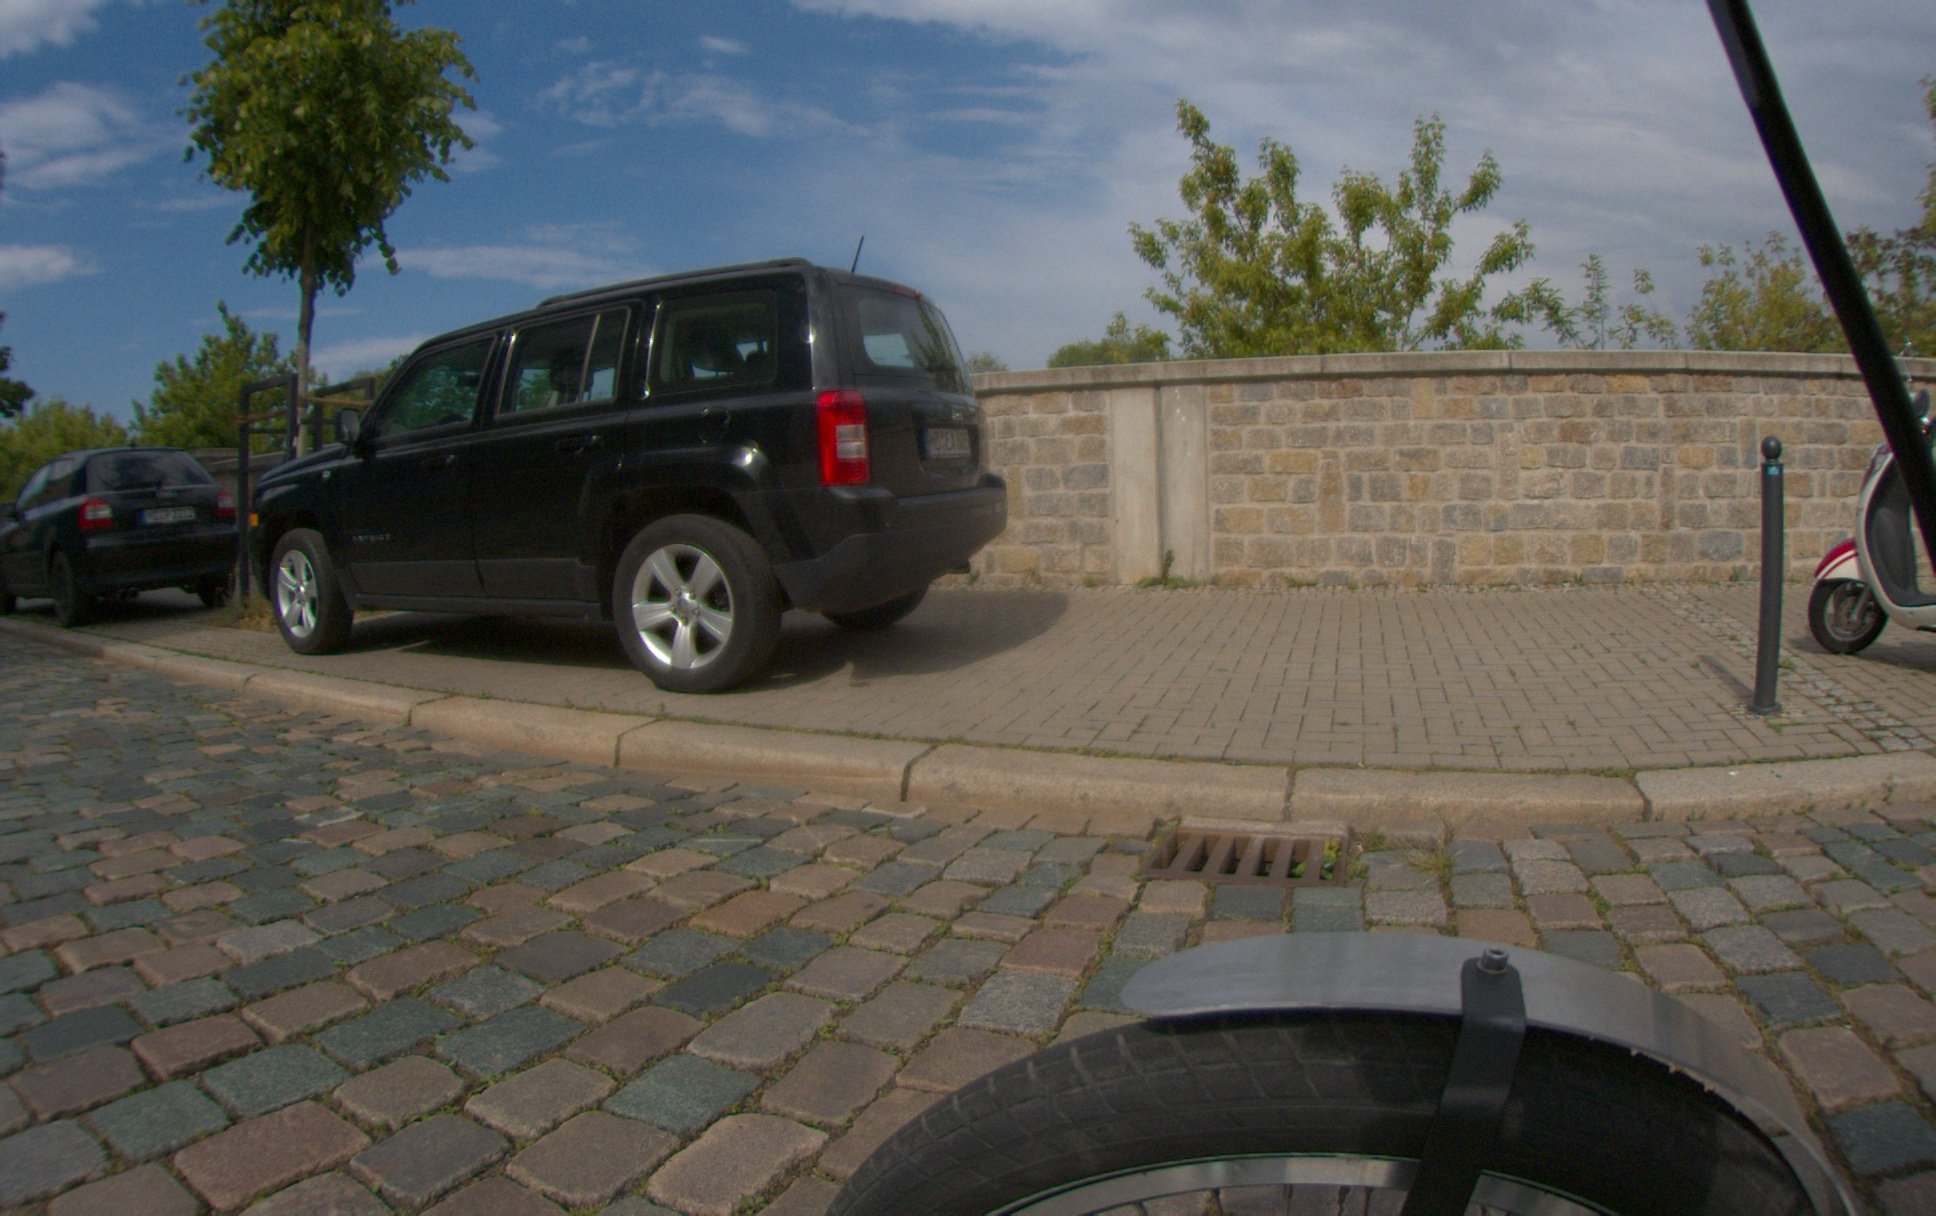35: (1809, 340, 1935, 656)
car: (248, 256, 1007, 693), (0, 448, 240, 628)
